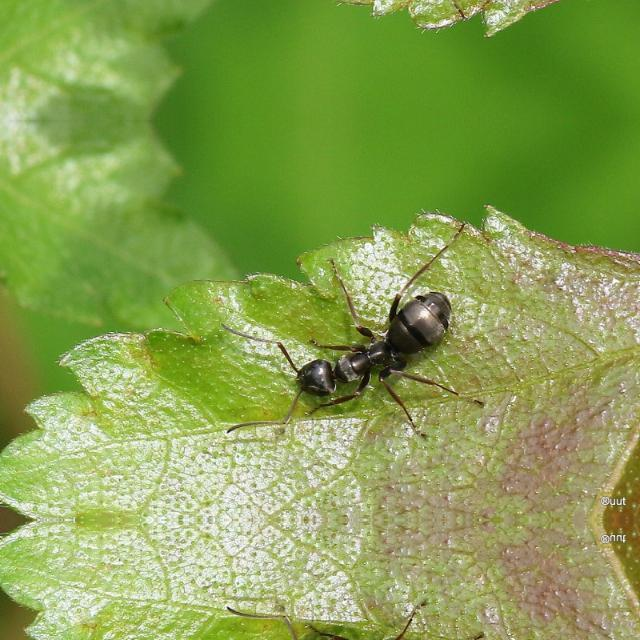Formica: (253, 260, 452, 430)
